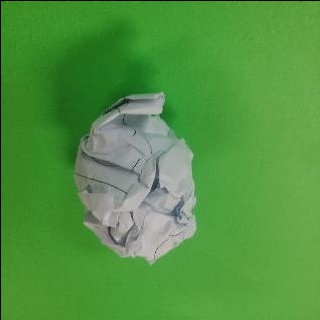8/可回收垃圾/纸: (73, 91, 198, 264)
